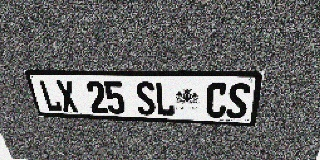2: (85, 81, 109, 114)
5: (103, 81, 126, 114)
C: (206, 82, 228, 118)
L: (38, 80, 63, 112), (154, 82, 175, 116)
S: (226, 83, 251, 119), (135, 81, 156, 115)
X: (55, 80, 79, 112)
